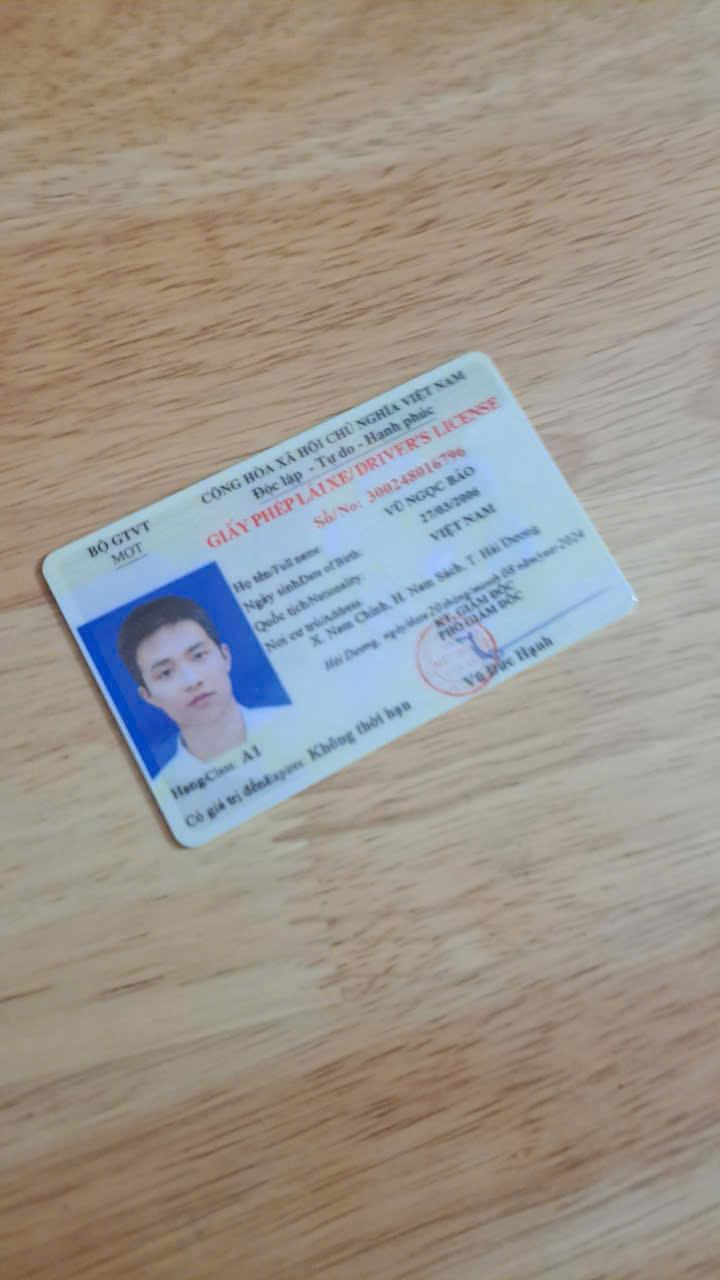gplx: (30, 337, 650, 870)
